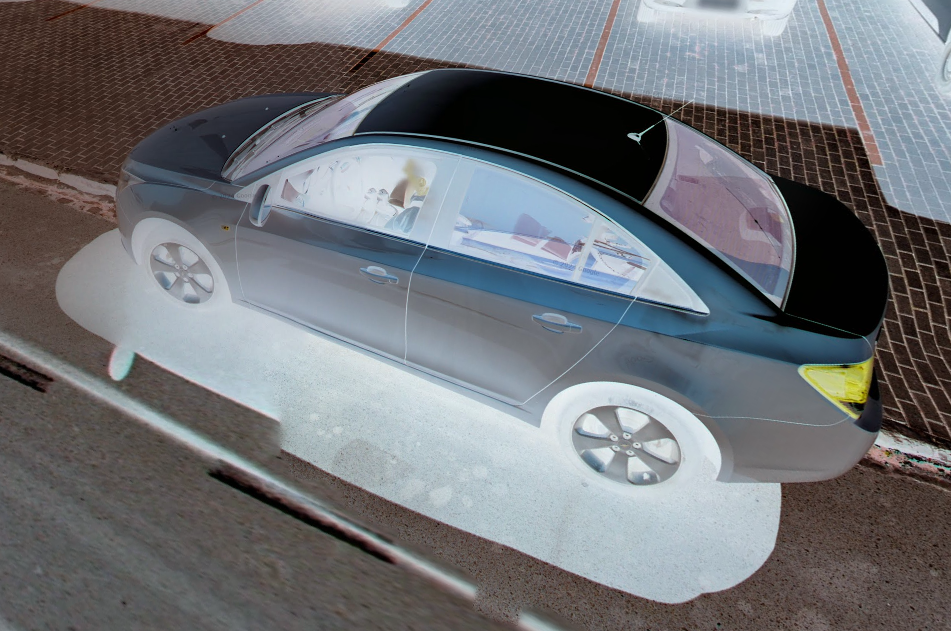car: (109, 65, 895, 505)
